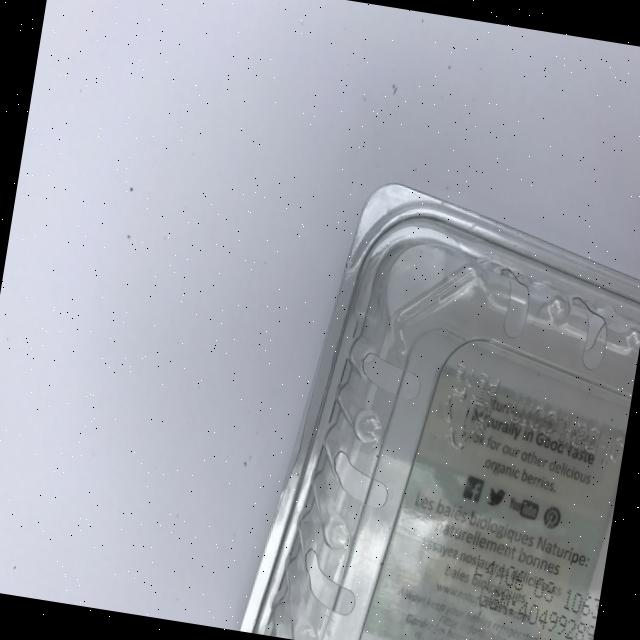plastic: (239, 170, 640, 640)
